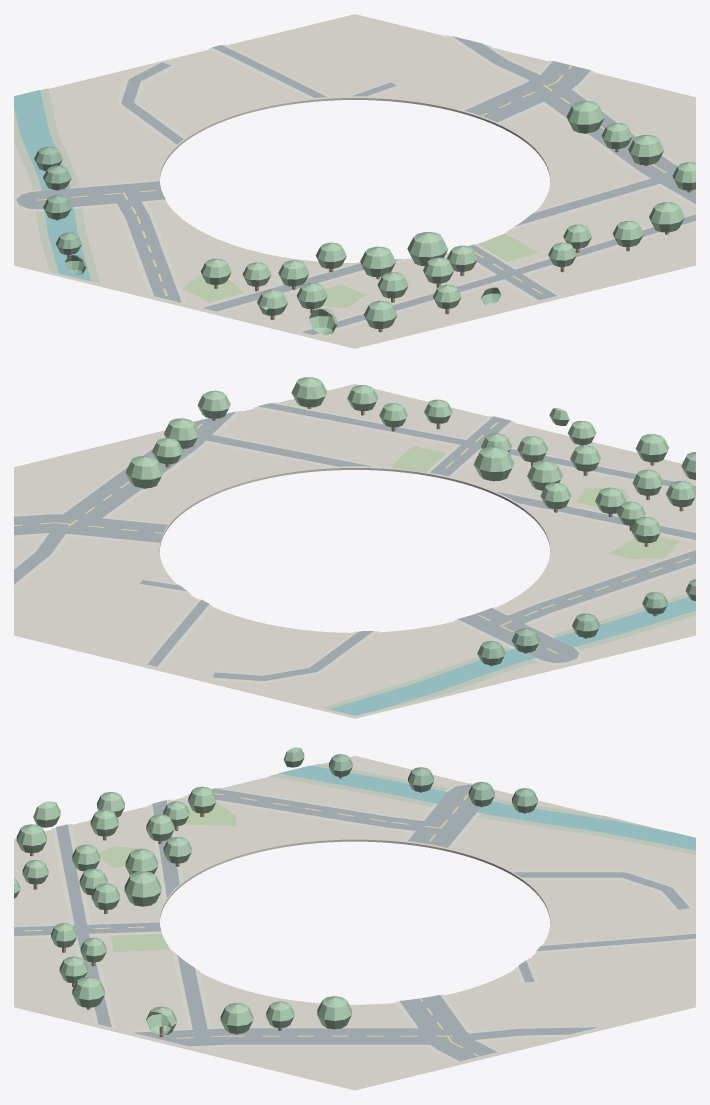
The model's file is surround-P07.glb.
The picture shows the model from 3 angles, top to bottom: view 1: azimuth 30°, elevation 25°; view 2: azimuth 150°, elevation 25°; view 3: azimuth 270°, elevation 25°; orthographic projection.
Visible parts, largest first — view 1: P07_ground, P07_road, P07_leaf, P07_paving, P07_water, P07_bank, P07_lawn, P07_leafdark, P07_yellow; view 2: P07_ground, P07_road, P07_leaf, P07_paving, P07_water, P07_bank, P07_leafdark, P07_lawn, P07_yellow; view 3: P07_ground, P07_road, P07_leaf, P07_paving, P07_water, P07_bank, P07_leafdark, P07_lawn, P07_yellow.
Boxes of the visible parts, x1,y1,x2,y2 form: P07_ground: (14,14,695,348); P07_road: (16,36,695,334); P07_leaf: (200,101,695,334); P07_paving: (14,34,695,336); P07_water: (14,90,90,281); P07_bank: (14,88,100,283); P07_lawn: (182,234,538,307); P07_leafdark: (34,146,86,274); P07_yellow: (37,65,666,295); P07_ground: (14,384,695,718); P07_road: (14,403,695,680); P07_leaf: (125,377,695,542); P07_paving: (14,402,695,683); P07_water: (329,597,695,715); P07_bank: (321,593,695,715); P07_leafdark: (477,579,695,665); P07_lawn: (390,446,678,558); P07_yellow: (14,422,689,653); P07_ground: (14,756,695,1090); P07_road: (14,784,695,1061); P07_leaf: (14,786,351,1035); P07_paving: (14,783,695,1062); P07_water: (278,765,695,850); P07_bank: (269,763,695,854); P07_leafdark: (283,747,537,812); P07_lawn: (99,804,236,952); P07_yellow: (24,793,479,1056).
Size of the model in its own units: 16.16 by 0.7968 by 14.
